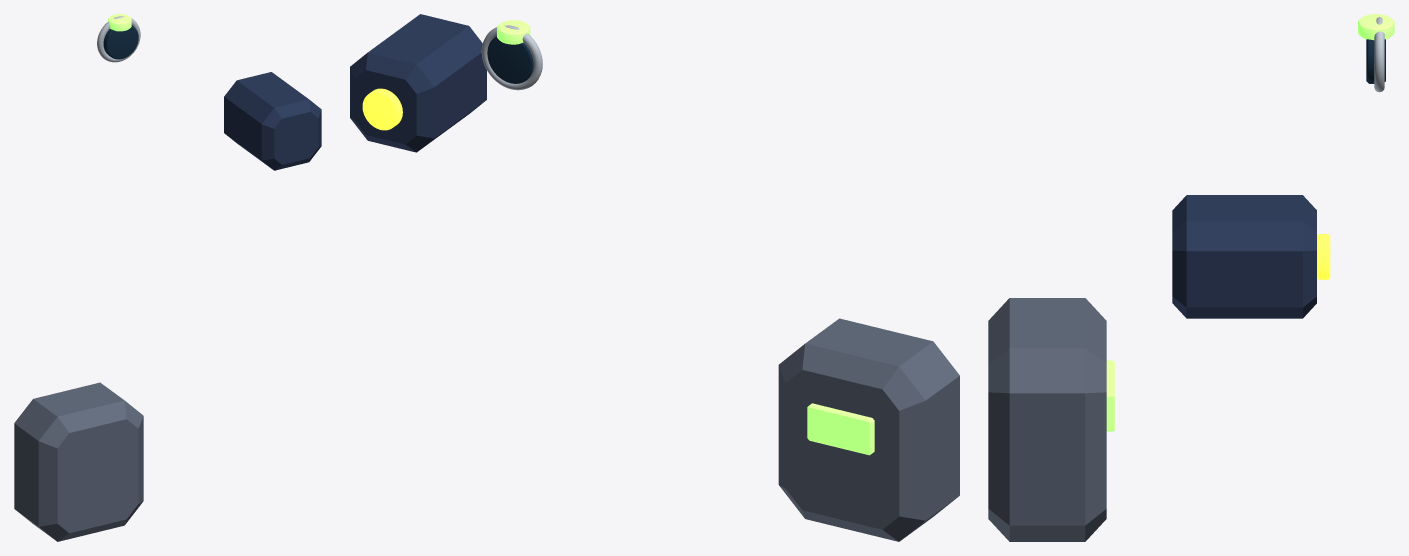
The model's file is tower_detector_analysis_s4.glb.
3 renders of one model, left to right at view 1: azimuth 30°, elevation 25°; view 2: azimuth 150°, elevation 25°; view 3: azimuth 270°, elevation 25°, orthographic. The views are drawn at different scales.
Parts seen in each view (by area): view 1: detector_recorder, detector_mark_projector, detector_analysis_lens, detector_analysis_lens_ring; view 2: detector_recorder, detector_mark_projector, detector_recorder_face, detector_analysis_lens, detector_mark_lens, detector_analysis_lens_ring; view 3: detector_recorder, detector_mark_projector, detector_up_analysis_l3_stud, detector_analysis_lens_ring, detector_recorder_face, detector_mark_lens, detector_analysis_lens.
Boxes of the visible parts, box(x1,y1,x2,y2) form: detector_recorder: box(14, 382, 143, 541); detector_mark_projector: box(224, 72, 321, 170); detector_analysis_lens: box(103, 25, 138, 59); detector_analysis_lens_ring: box(97, 16, 140, 62); detector_recorder: box(778, 318, 959, 541); detector_mark_projector: box(350, 14, 486, 152); detector_recorder_face: box(807, 403, 874, 455); detector_analysis_lens: box(487, 36, 533, 83); detector_mark_lens: box(362, 88, 402, 130); detector_analysis_lens_ring: box(481, 25, 542, 90); detector_recorder: box(988, 298, 1106, 541); detector_mark_projector: box(1172, 195, 1316, 318); detector_up_analysis_l3_stud: box(1358, 14, 1394, 40); detector_analysis_lens_ring: box(1374, 17, 1384, 92); detector_recorder_face: box(1106, 360, 1114, 431); detector_mark_lens: box(1317, 234, 1330, 279); detector_analysis_lens: box(1366, 39, 1385, 83).
Size of the model in its own units: 0.924 by 1.02 by 0.618.
